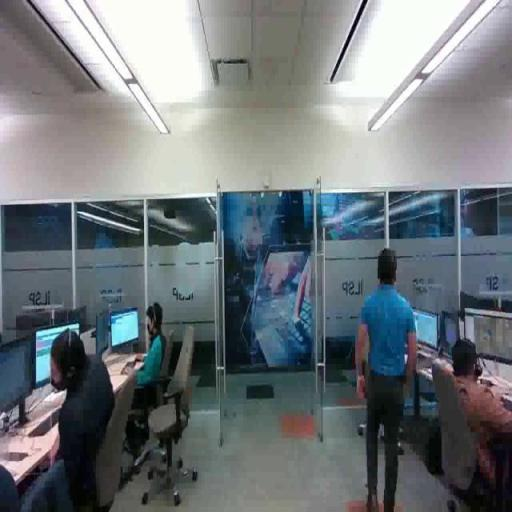person: (21, 327, 126, 512), (356, 246, 421, 512), (443, 338, 512, 509), (125, 302, 174, 465)
